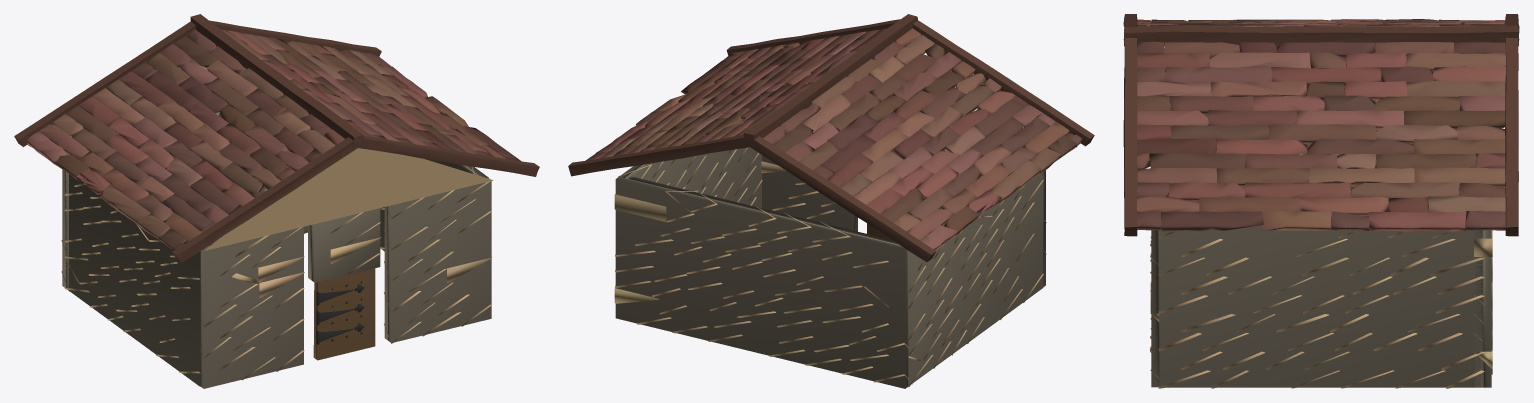
The model's file is stone_cottage_low.glb.
The picture shows the model from 3 angles, left to right: view 1: azimuth 30°, elevation 25°; view 2: azimuth 150°, elevation 25°; view 3: azimuth 270°, elevation 25°; orthographic projection. The views are drawn at different scales.
Visible parts, largest first — view 1: three-low-poly_stone_cottage, mesh_8, mesh_10, three-low-poly_arched_cottage_door, mesh_9_instance_0, mesh_11_instance_0, mesh_9_instance_1, mesh_11_instance_1; view 2: three-low-poly_stone_cottage, mesh_8, mesh_10, mesh_9_instance_1, mesh_11_instance_1, mesh_9_instance_0, mesh_11_instance_0; view 3: mesh_10, three-low-poly_stone_cottage, mesh_11_instance_1, mesh_8, mesh_11_instance_0.
Part boxes in pixels (<box>): three-low-poly_stone_cottage: <box>61,14,493,388</box>; mesh_8: <box>26,29,344,250</box>; mesh_10: <box>221,29,521,161</box>; three-low-poly_arched_cottage_door: <box>313,268,375,360</box>; mesh_9_instance_0: <box>172,137,358,262</box>; mesh_11_instance_0: <box>358,136,539,176</box>; mesh_9_instance_1: <box>14,21,195,146</box>; mesh_11_instance_1: <box>209,20,381,56</box>; three-low-poly_stone_cottage: <box>614,14,1046,388</box>; mesh_8: <box>763,28,1082,250</box>; mesh_10: <box>586,28,886,160</box>; mesh_9_instance_1: <box>750,136,935,261</box>; mesh_11_instance_1: <box>568,135,749,176</box>; mesh_9_instance_0: <box>912,20,1094,146</box>; mesh_11_instance_0: <box>726,19,900,55</box>; mesh_10: <box>1137,41,1505,231</box>; three-low-poly_stone_cottage: <box>1123,25,1519,388</box>; mesh_11_instance_1: <box>1505,37,1518,236</box>; mesh_8: <box>1137,19,1505,27</box>; mesh_11_instance_0: <box>1123,38,1137,236</box>.
Size of the model in its own units: 6.5 by 3.9 by 5.09.
